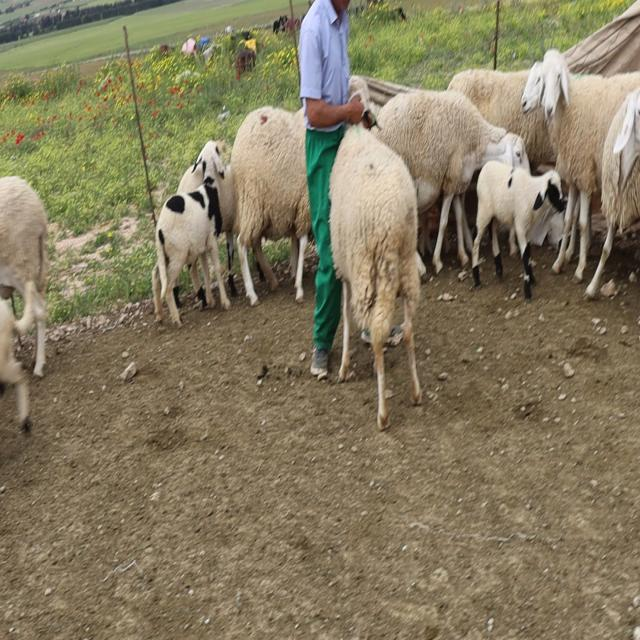Score_5: (328, 130, 422, 430)
